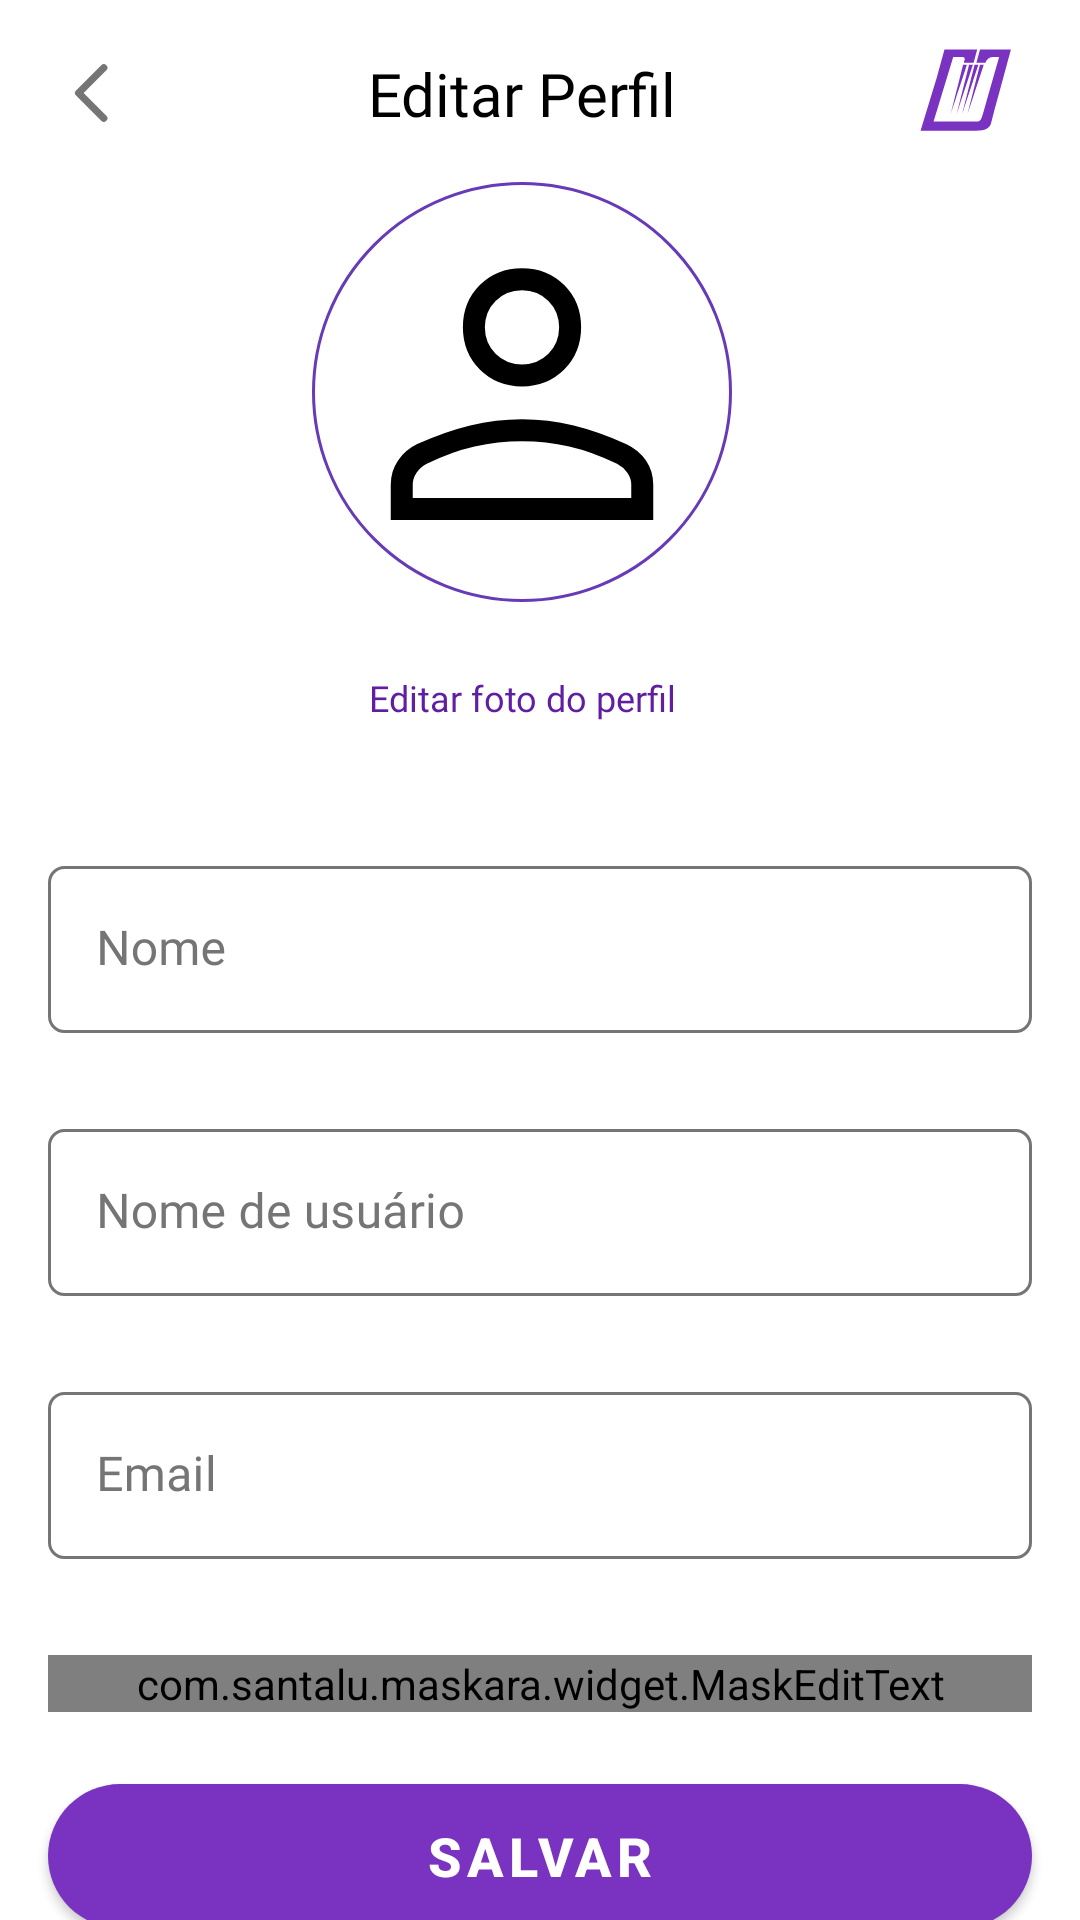

Where to tap for icons on this 1080px×1920px app screen, as (x=x, y=y):
arrow chevron left: (x=91, y=93)
